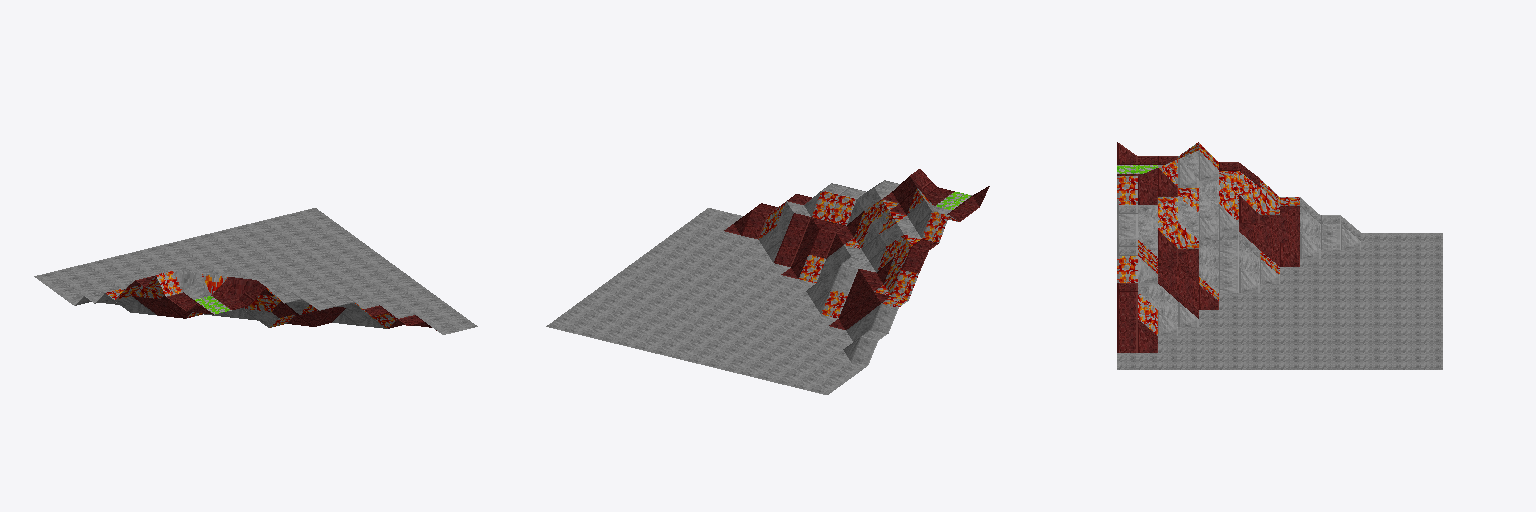
3 renders of one model, left to right at view 1: azimuth 30°, elevation 25°; view 2: azimuth 150°, elevation 25°; view 3: azimuth 270°, elevation 25°, orthographic.
Parts seen in each view (by area): view 1: cornerRock_4; view 2: cornerRock_4; view 3: cornerRock_4.
Boxes of the visible parts, x1=… form: cornerRock_4: x1=34, y1=208, x2=477, y2=334; cornerRock_4: x1=546, y1=169, x2=989, y2=394; cornerRock_4: x1=1117, y1=142, x2=1442, y2=369.
Size of the model in its own units: 16 by 4.94 by 16.
10 materials, 10 textured.